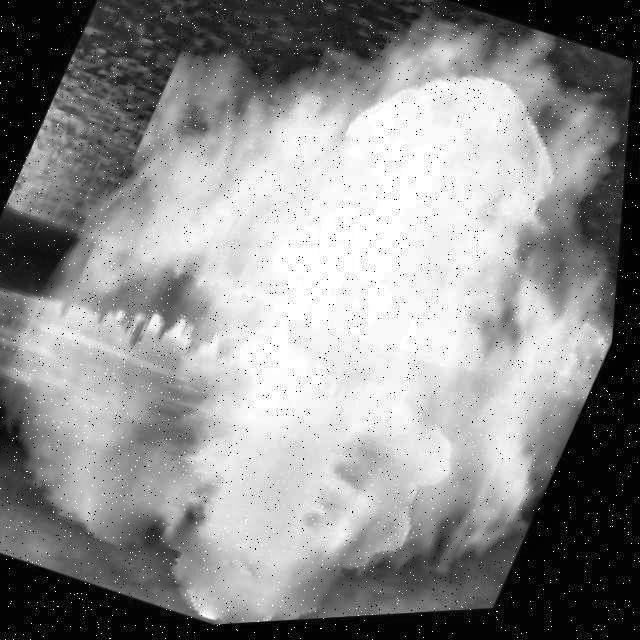Smoke: (0, 0, 634, 628)
